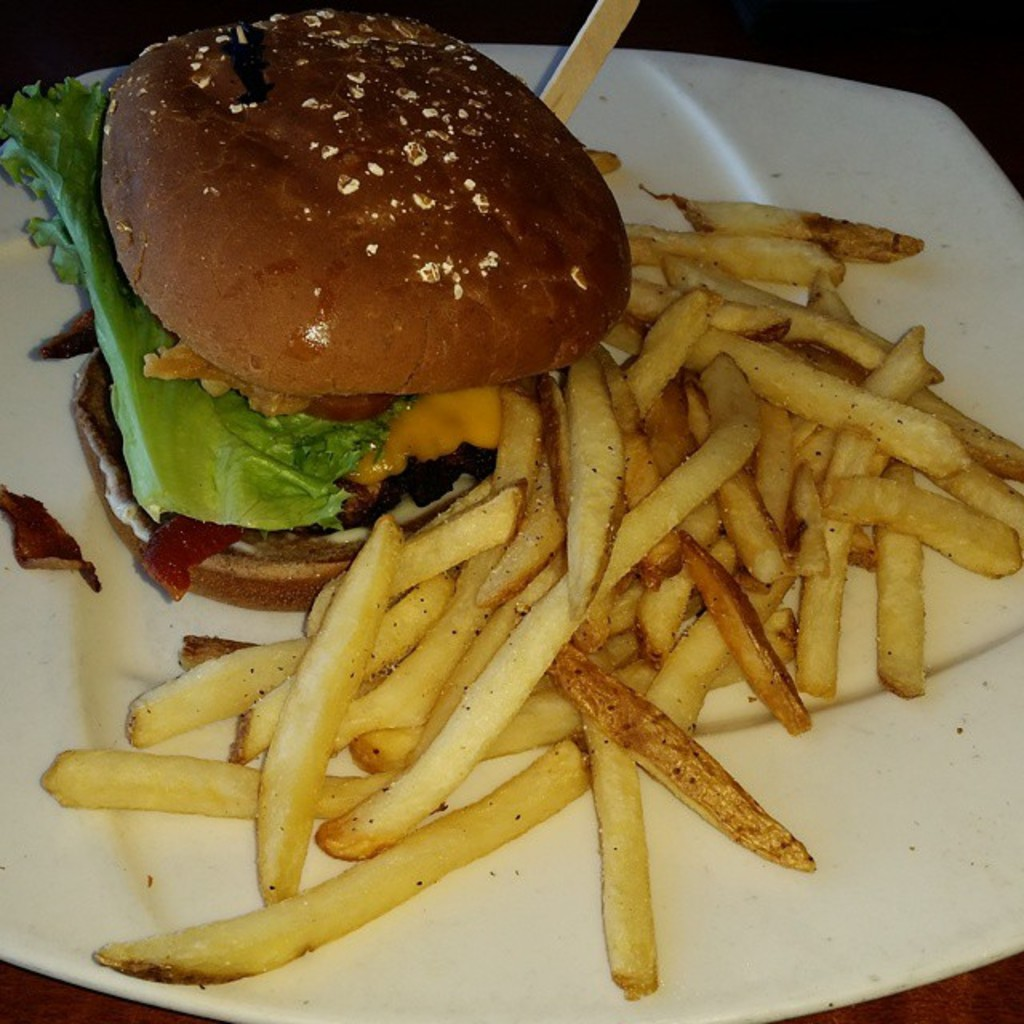French fries: (35, 0, 1022, 1019)
